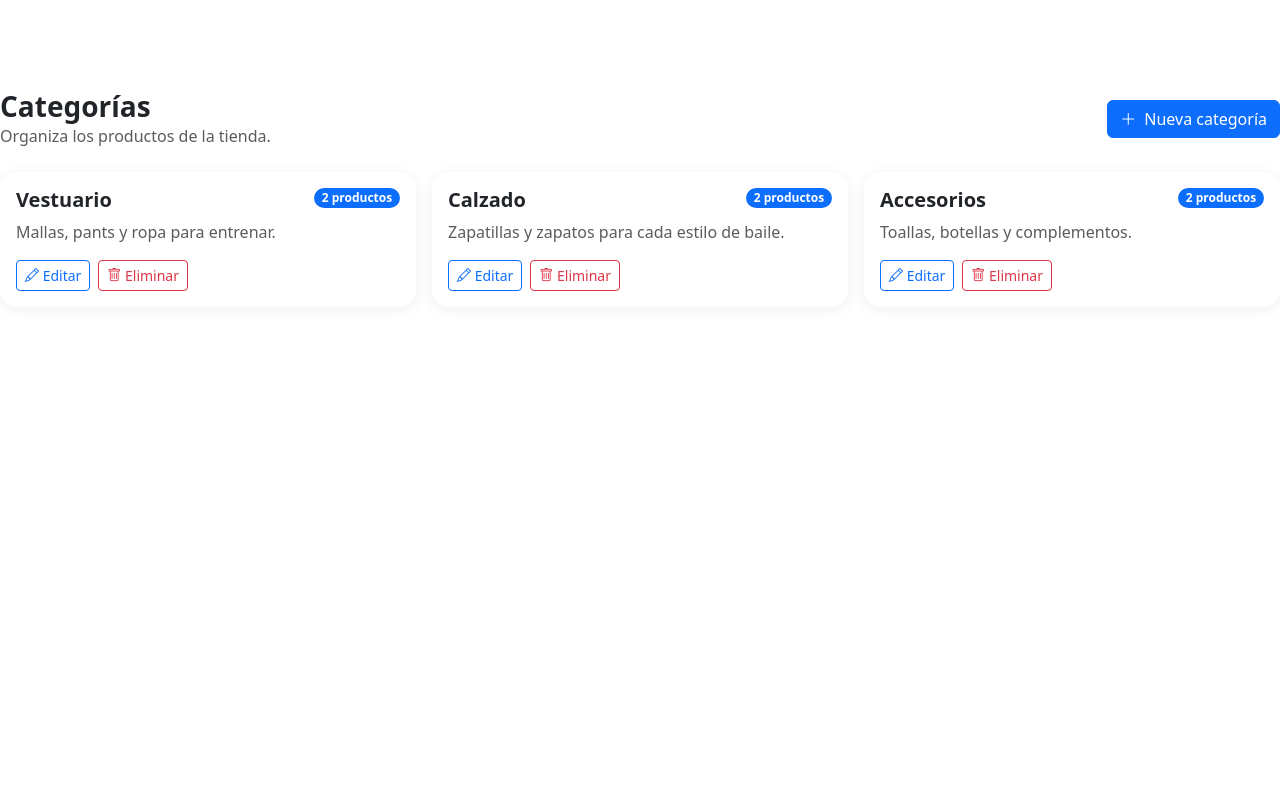
Test: admin/views/CategoriasView › "Editar" abre el formulario con los datos de la categoría
Click the button "Editar" below "Mallas, pants y ropa para entrenar.": x=53, y=275 left=16, top=260, right=90, bottom=291
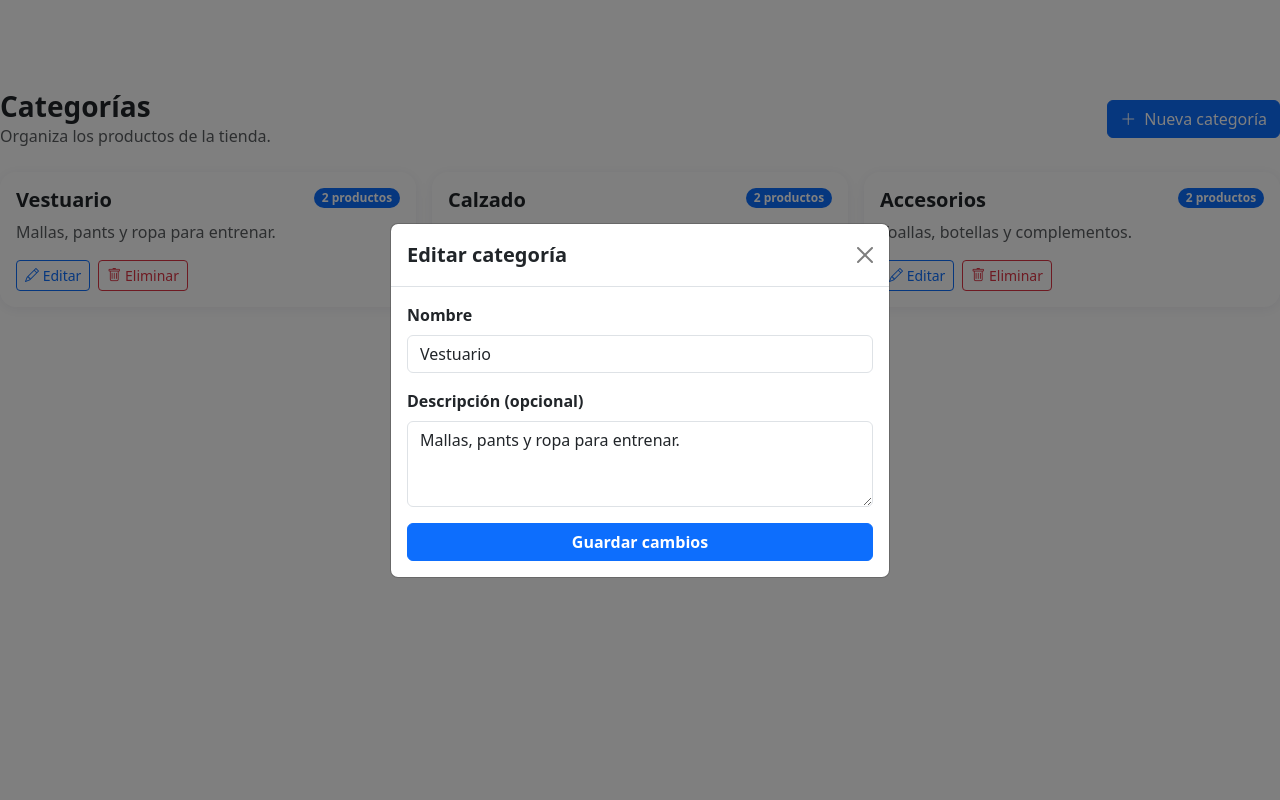
Result: the heading "Editar categoría" is shown at left=407, top=240, right=567, bottom=270
Result: the field labelled "Nombre" holds "Vestuario" at left=407, top=334, right=873, bottom=372
